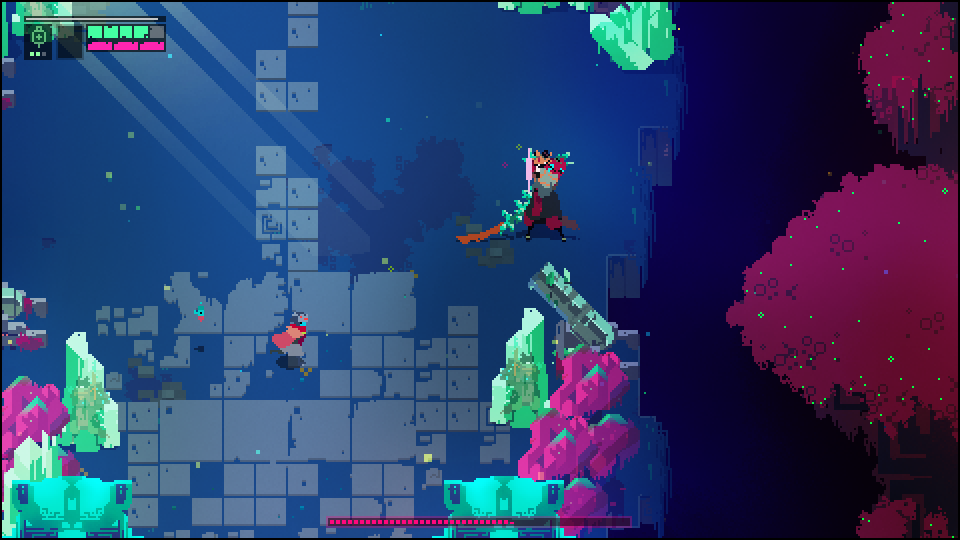hanged_man: (488, 144, 581, 248)
player: (269, 310, 311, 371)
